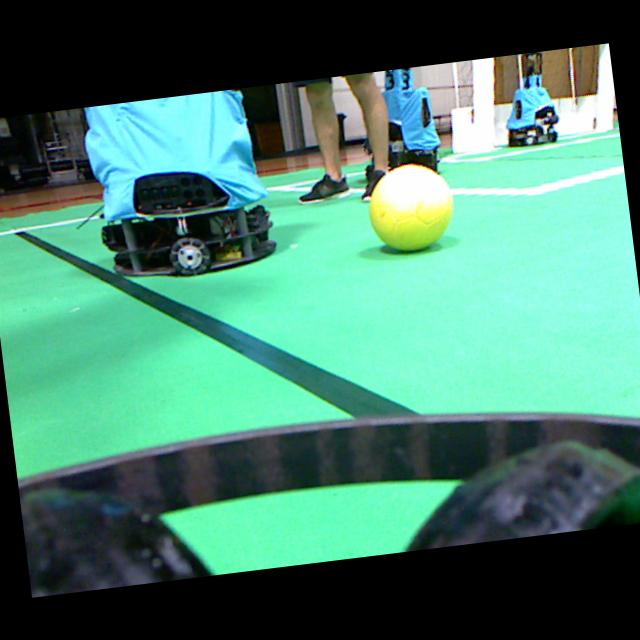ball: (369, 164, 452, 250)
goal: (471, 57, 494, 151), (596, 43, 613, 131)
